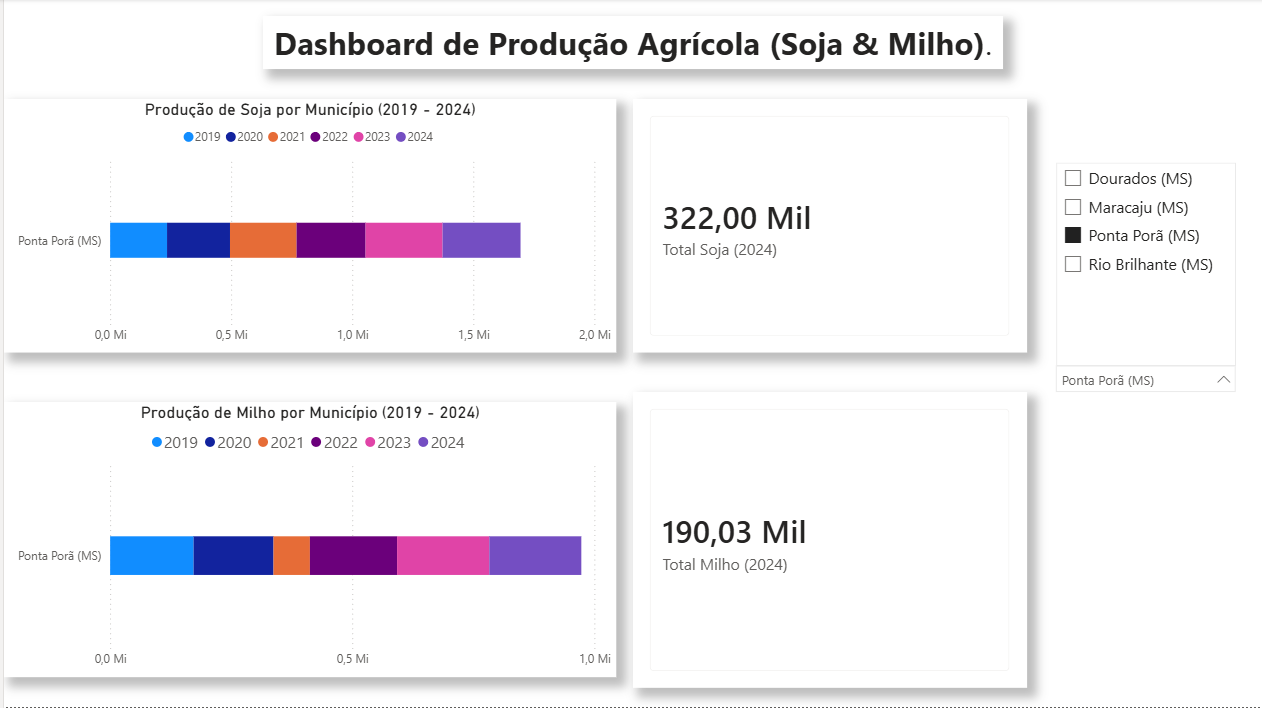

Layout of this report page (visuals, bound fields, positions):
{"tool":"powerbi","page":{"name":"Página 1","canvas":[1280,720],"ordinal":0},"visuals":[{"type":"barChart","title":"Produção de Soja por Município (2019 - 2024)","fields":{"Category":["public vw_producao_limpa.municipio"],"Y":["Sum(public vw_producao_limpa.soja_2019)","Sum(public vw_producao_limpa.soja_2020)","Sum(public vw_producao_limpa.soja_2021)","Sum(public vw_producao_limpa.soja_2022)","Sum(public vw_producao_limpa.soja_2023)","Sum(public vw_producao_limpa.soja_2024)"]},"box":[0,101.7,622.7,258.4],"z":0},{"type":"barChart","title":"Produção de Milho por Município (2019 - 2024)","fields":{"Category":["public vw_producao_limpa.municipio"],"Y":["Sum(public vw_producao_limpa.milho_2019)","Sum(public vw_producao_limpa.milho_2020)","Sum(public vw_producao_limpa.milho_2021)","Sum(public vw_producao_limpa.milho_2022)","Sum(public vw_producao_limpa.milho_2023)","Sum(public vw_producao_limpa.milho_2024)"]},"box":[0,410,622.7,279.8],"z":1},{"type":"slicer","fields":{"Values":["public vw_producao_limpa.municipio"]},"box":[1060.2,344.9,203.5,73.3],"z":2},{"type":"cardVisual","fields":{"Data":["Sum(public vw_producao_limpa.soja_2024)"]},"box":[640,101.7,400.9,258.4],"z":3},{"type":"cardVisual","fields":{"Data":["Sum(public vw_producao_limpa.milho_2024)"]},"box":[640,399.9,400.9,301.2],"z":4},{"type":"textbox","box":[263.5,17.3,752.9,53.9],"z":5}]}

Visuals, with their boxes in screenshot pixels (x1, y1, x2, y2), scaled from the page's 1280x720 canvas onto the 1262x708 screenshot:
"Produção de Soja por Município (2019 - 2024)" barChart: <bbox>0, 100, 614, 354</bbox>
"Produção de Milho por Município (2019 - 2024)" barChart: <bbox>0, 403, 614, 678</bbox>
slicer - public vw_producao_limpa.municipio: <bbox>1045, 339, 1246, 411</bbox>
cardVisual - Sum(public vw_producao_limpa.soja_2024): <bbox>631, 100, 1026, 354</bbox>
cardVisual - Sum(public vw_producao_limpa.milho_2024): <bbox>631, 393, 1026, 689</bbox>
textbox: <bbox>260, 17, 1002, 70</bbox>
